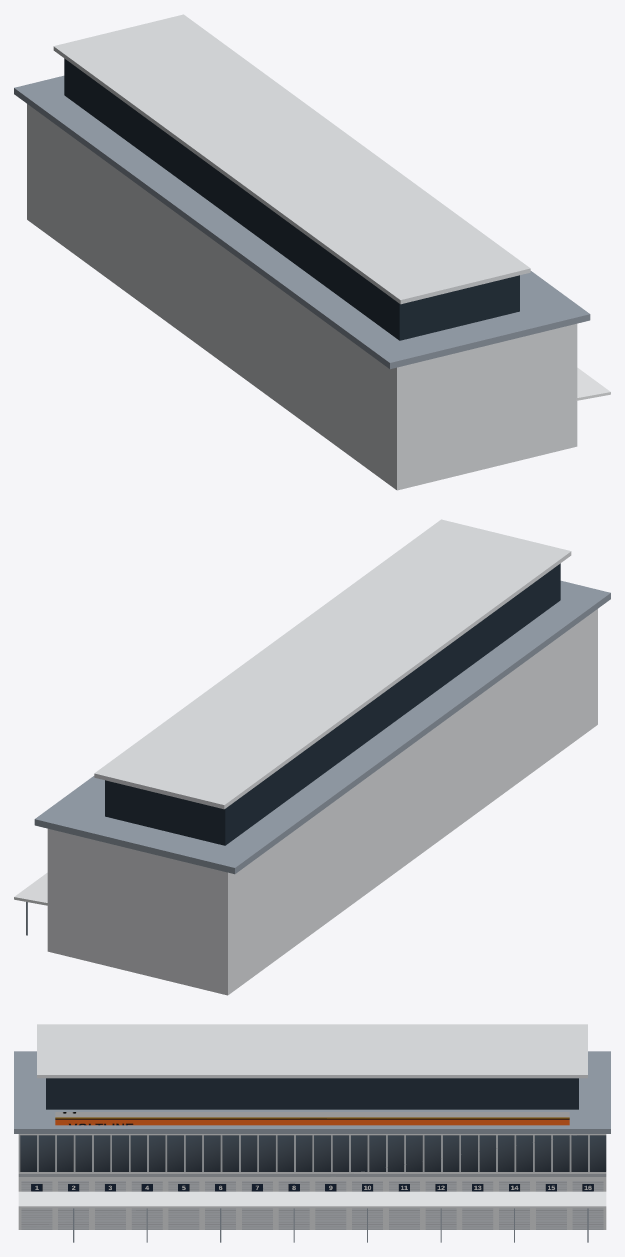
The model's file is pit_building_64m.glb.
3 renders of one model, top to bottom at view 1: azimuth 30°, elevation 25°; view 2: azimuth 150°, elevation 25°; view 3: azimuth 270°, elevation 25°, orthographic. The views are drawn at different scales.
Visible parts, largest first — view 1: sz_pit_building; view 2: sz_pit_building; view 3: sz_pit_building.
Part boxes in pixels (box(x1,y1,x2,y2)): sz_pit_building: box(14, 14, 610, 490); sz_pit_building: box(14, 519, 610, 995); sz_pit_building: box(14, 1024, 610, 1242).
Bounding box in the file's own units: 22.35 × 17 × 65.
Materials: 6 (2 with a texture image).
